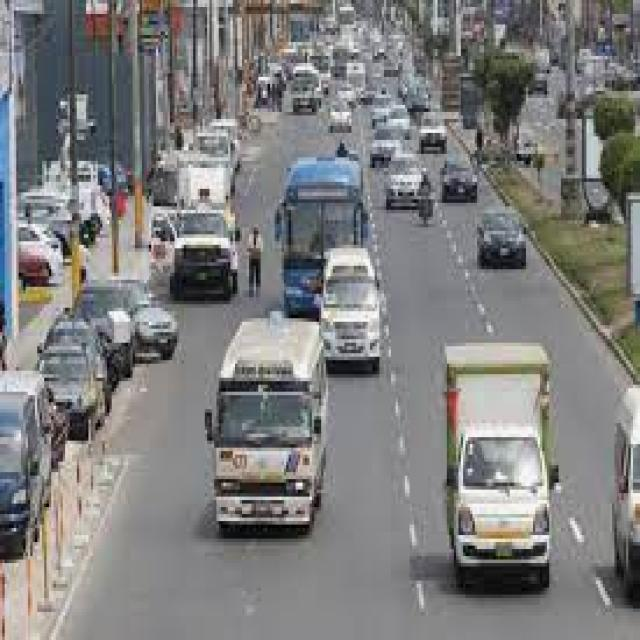BUS: (219, 317, 329, 542), (286, 156, 366, 326)
MOTORCYCLE: (418, 181, 438, 229)
SED: (471, 207, 534, 280), (381, 152, 420, 204), (440, 153, 478, 200)
TRUCK: (443, 346, 552, 600)
